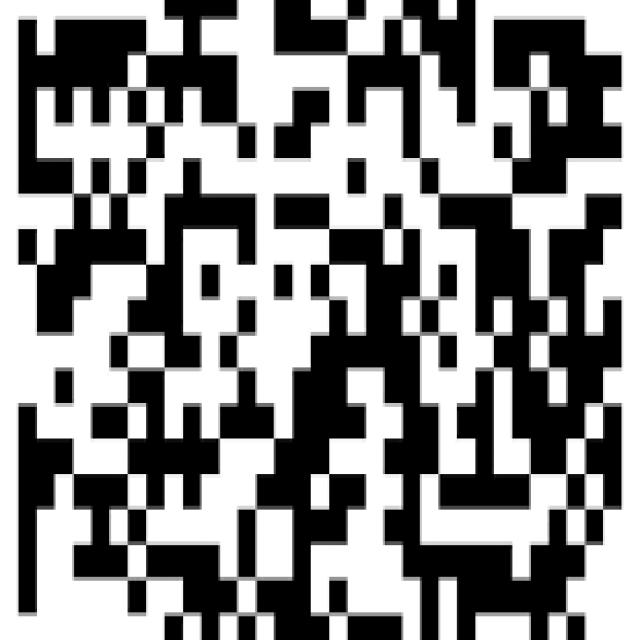datamatrix: (6, 4, 632, 640)
